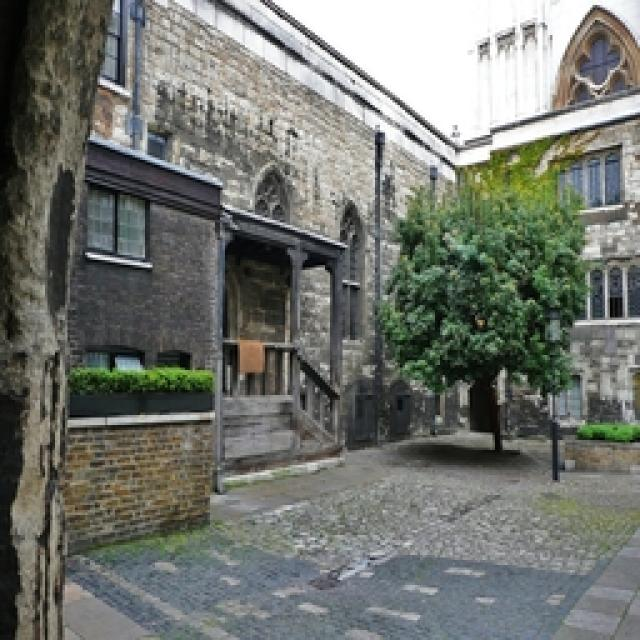Abbey: (79, 1, 638, 499)
